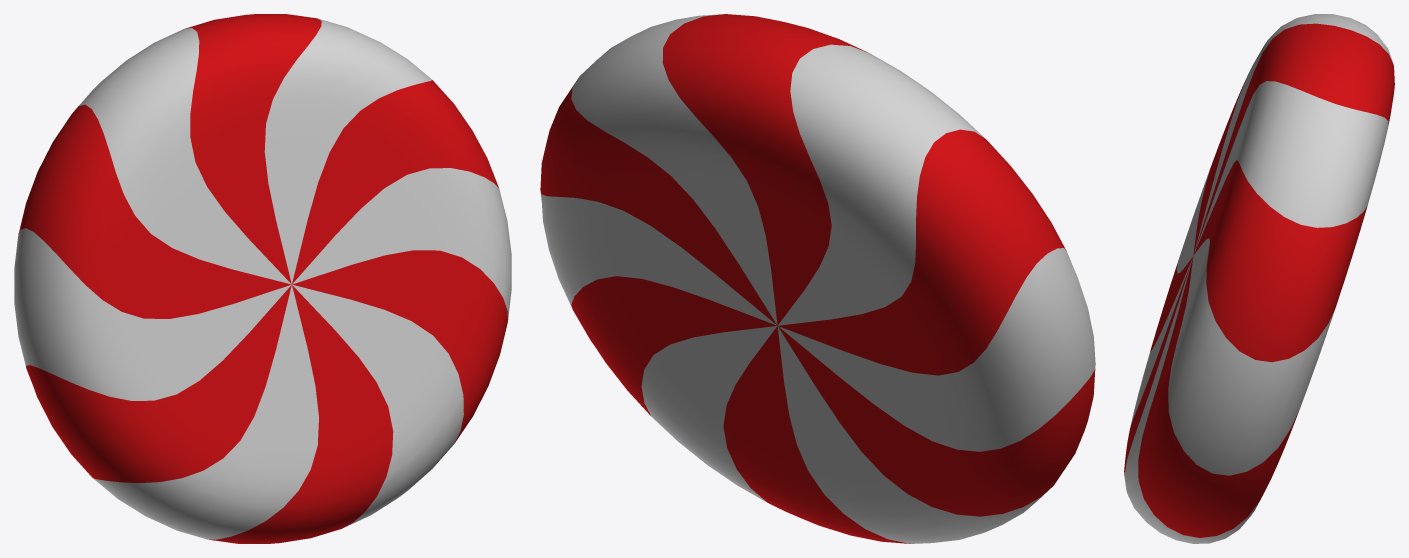
Rendered from candysphere.fbx.
3 views of the same model, side by side, from view 1: azimuth 30°, elevation 25°; view 2: azimuth 150°, elevation 25°; view 3: azimuth 270°, elevation 25° (orthographic). The views are drawn at different scales.
Parts seen in each view (by area): view 1: Caramelo.007; view 2: Caramelo.007; view 3: Caramelo.007.
Boxes of the visible parts, x1,y1,x2,y2 form: Caramelo.007: [14, 14, 511, 543]; Caramelo.007: [540, 14, 1095, 543]; Caramelo.007: [1124, 14, 1394, 543].
Bounding box in the file's own units: 165 × 81.23 × 159.
